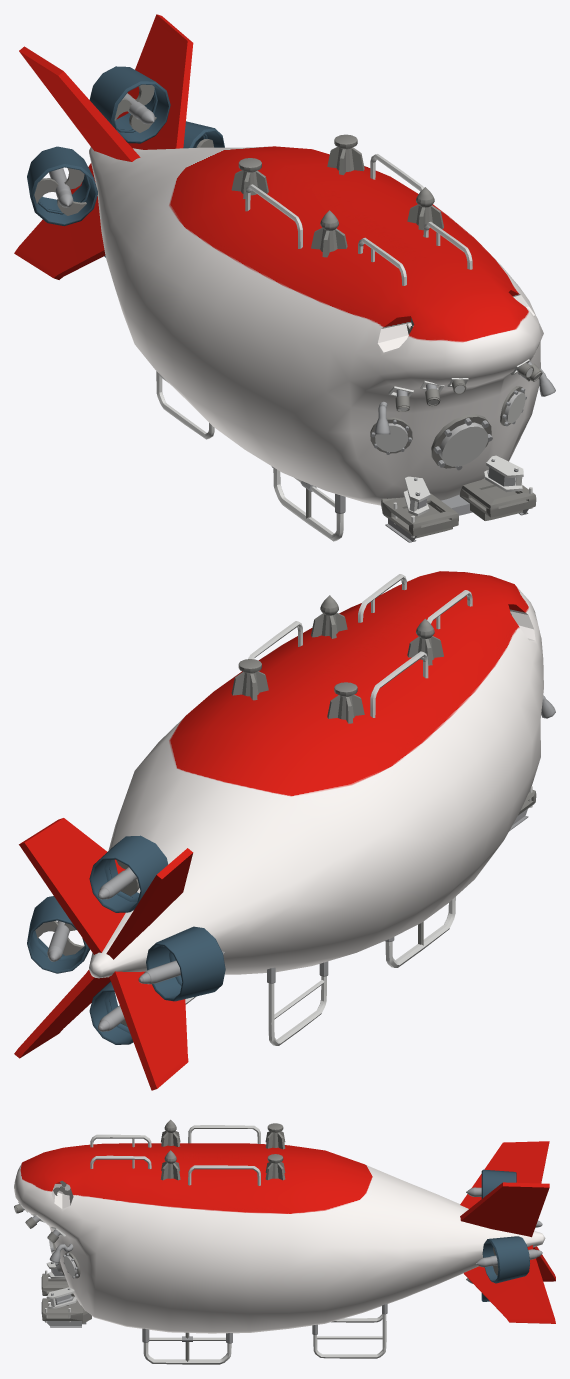
The model's file is jiaolonghao.fbx.
The picture shows the model from 3 angles, top to bottom: view 1: azimuth 30°, elevation 25°; view 2: azimuth 150°, elevation 25°; view 3: azimuth 270°, elevation 25°; orthographic projection. The views are drawn at different scales.
Visible parts, largest first — view 1: polySurface2; view 2: polySurface2; view 3: polySurface2.
Boxes of the visible parts, left/top/right/bottom form: polySurface2: left=14, top=14, right=555, bottom=542; polySurface2: left=14, top=571, right=555, bottom=1090; polySurface2: left=14, top=1119, right=555, bottom=1364.
Bounding box in the file's own units: 847 × 885 × 2058.
